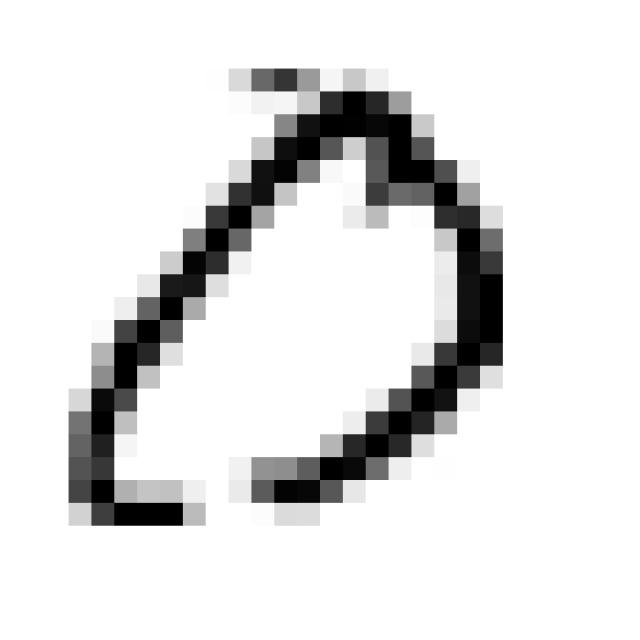5 -five-: (46, 48, 519, 555)
